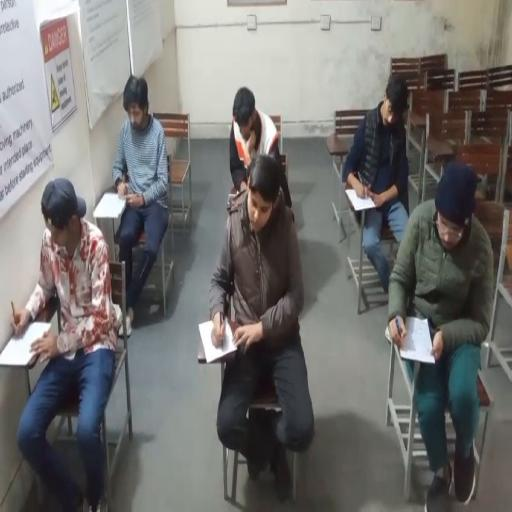paper: (0, 322, 52, 368), (198, 316, 237, 364), (385, 320, 433, 358), (93, 192, 127, 218), (345, 187, 377, 212)
